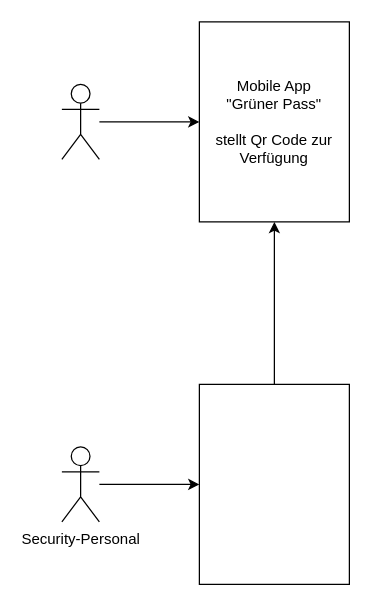
Some shapes in this 371 by 606 pixel diagram are drawn without their labels. The shapes that lost their labels are listed below. From the top down, each one's centre as x and y in pixels, then its label:
point (80, 121): Bürger
point (273, 483): Mobile App "Greencheck" mit QR-Code Scanner
